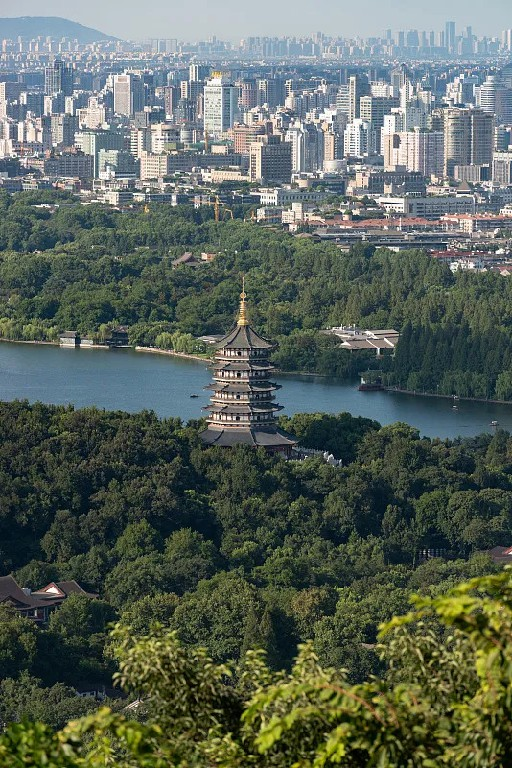Leifeng: (194, 277, 297, 470)
